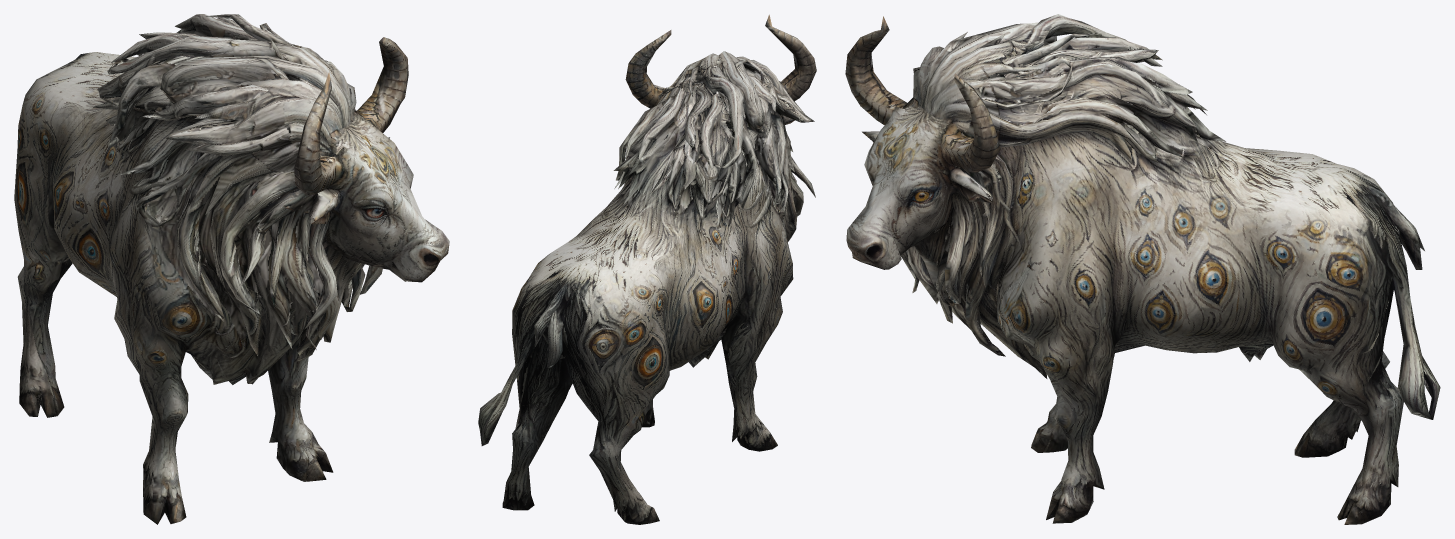
The model's file is Baektaek.glb.
3 views of the same model, side by side, from view 1: azimuth 30°, elevation 25°; view 2: azimuth 150°, elevation 25°; view 3: azimuth 270°, elevation 25° (orthographic). The views are drawn at different scales.
Parts seen in each view (by area): view 1: texture_mapping; view 2: texture_mapping; view 3: texture_mapping.
Part boxes in pixels (x1,y1,x2,y2): texture_mapping: [14, 14, 449, 524]; texture_mapping: [478, 14, 816, 524]; texture_mapping: [845, 14, 1440, 524].
Bounding box in the file's own units: 0.4495 × 0.8571 × 0.9916.
Materials: 1 (1 with a texture image).
